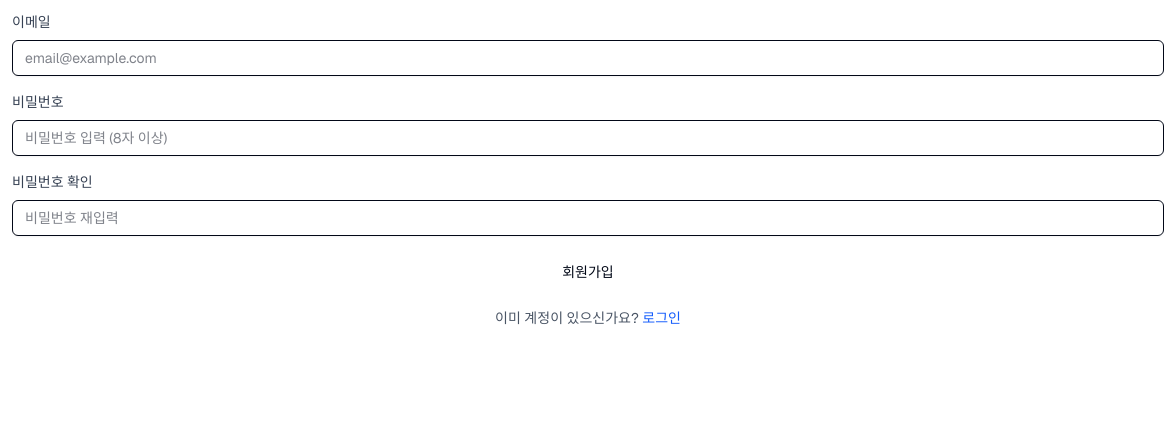
Test case: SignupForm › 회원가입 성공 › 성공 시 녹색 성공 메시지를 표시하고 로그인 페이지로 이동한다
This screenshot has width=1176, height=422.
Type "new@example.com" into the field labelled "이메일".
click(588, 58); type("new@example.com")  # box [12,40,1164,76]
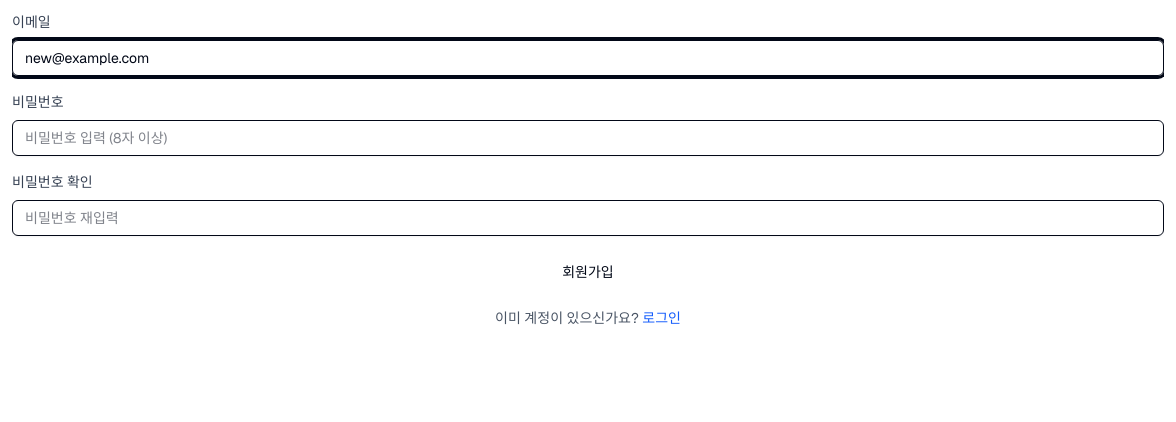
Type "password123456" into the password field labelled "비밀번호".
click(588, 138); type("password123456")  # box [12,120,1164,156]
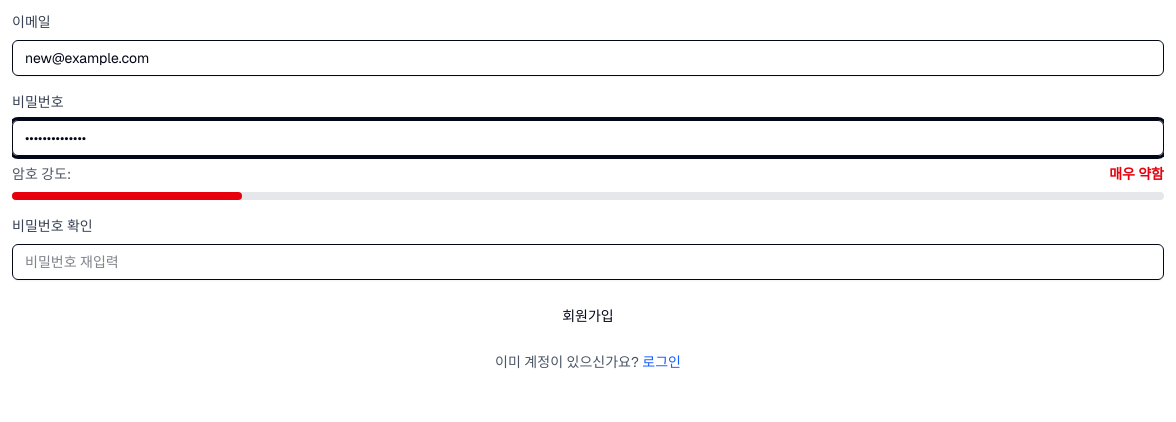
Type "password123456" into the password field labelled "비밀번호 확인".
click(588, 262); type("password123456")  # box [12,244,1164,280]
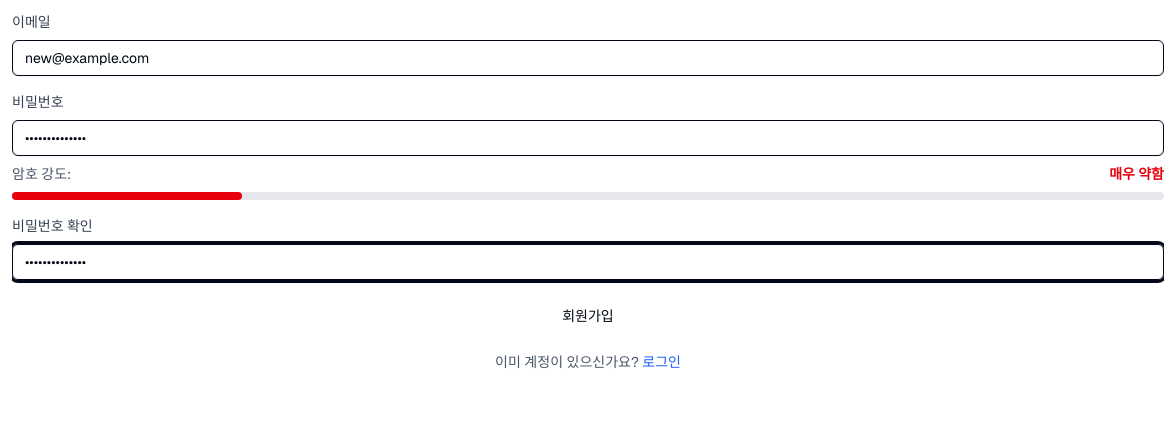
Click the button "회원가입".
click(588, 316)  # box [12,296,1164,336]
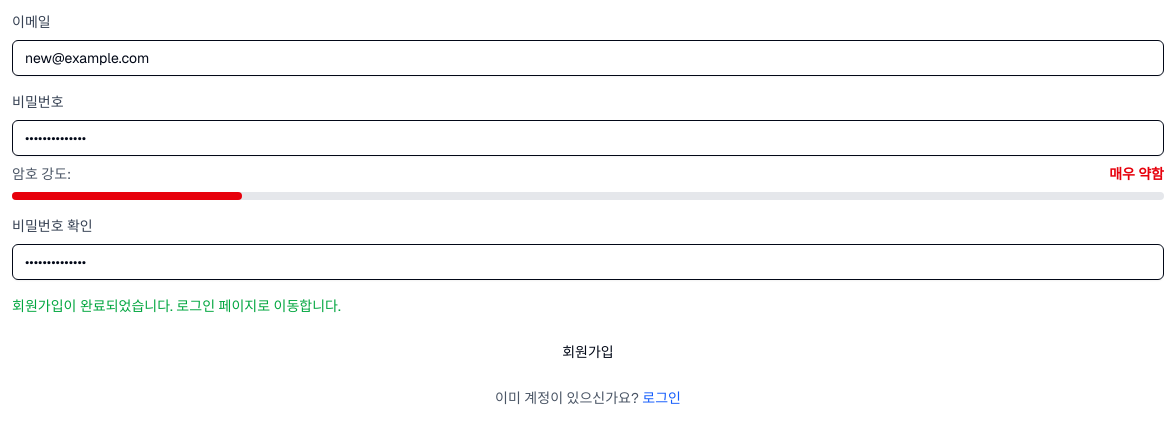
Check: the text "회원가입이 완료되었습니다. 로그인 페이지로 이동합니다." is shown, box [12,297,341,315]
